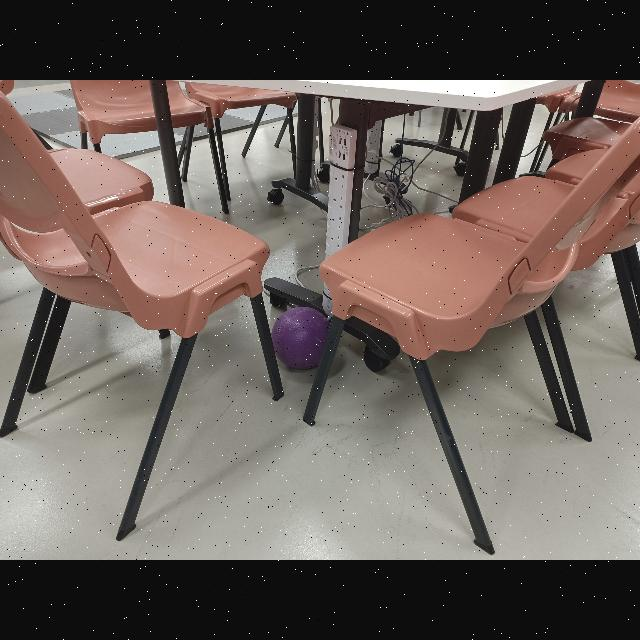P: (272, 307, 334, 371)
